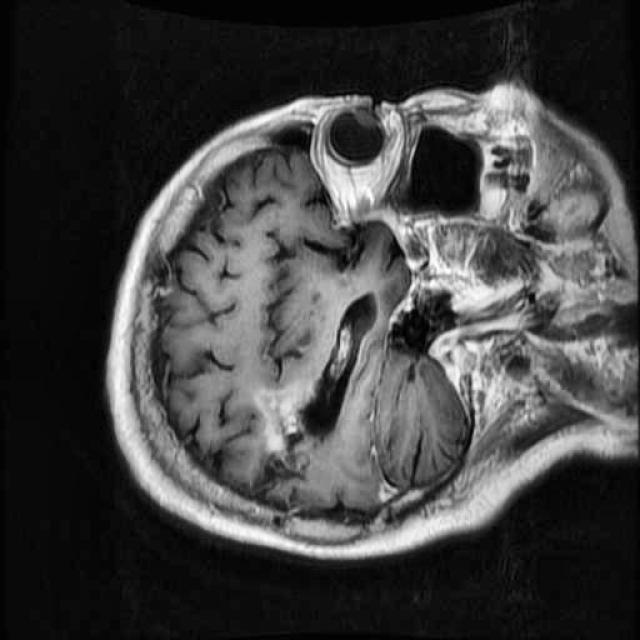Non-Tumor: (243, 258, 399, 460)
